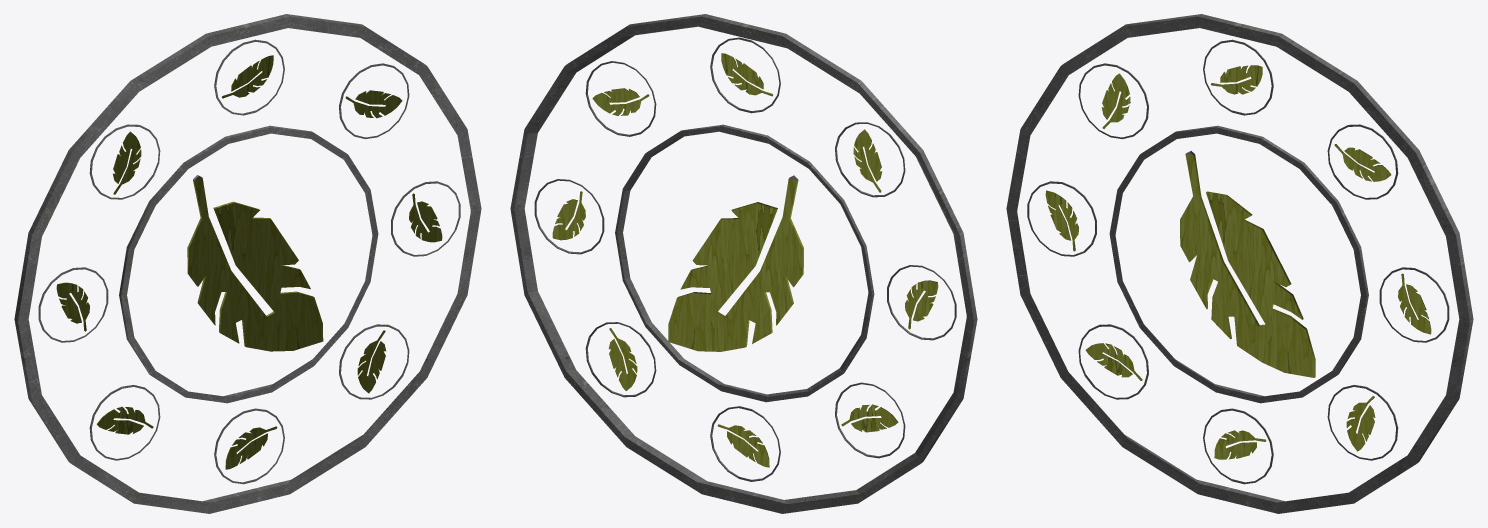
The model's file is texture_tree_top.fbx.
3 renders of one model, left to right at view 1: azimuth 30°, elevation 25°; view 2: azimuth 150°, elevation 25°; view 3: azimuth 330°, elevation 25°, orthographic.
Parts seen in each view (by area): view 1: Cylinder003; view 2: Cylinder003; view 3: Cylinder003.
Part boxes in pixels (left/top/right/bottom): Cylinder003: left=14, top=14, right=481, bottom=513; Cylinder003: left=510, top=14, right=977, bottom=513; Cylinder003: left=1006, top=14, right=1473, bottom=513.
Size of the model in its own units: 51.23 by 50.46 by 0.6909.
1 material, 1 textured.
